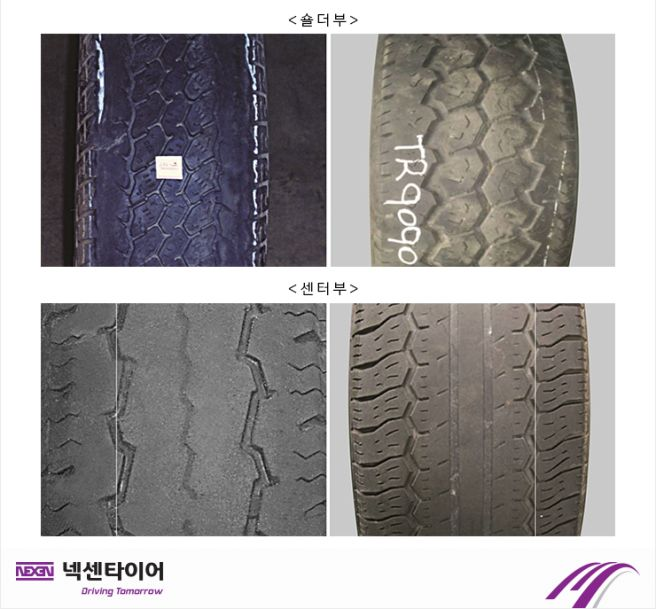bad_condition: (40, 302, 326, 532), (42, 36, 312, 265), (344, 302, 602, 536), (362, 32, 592, 266)
